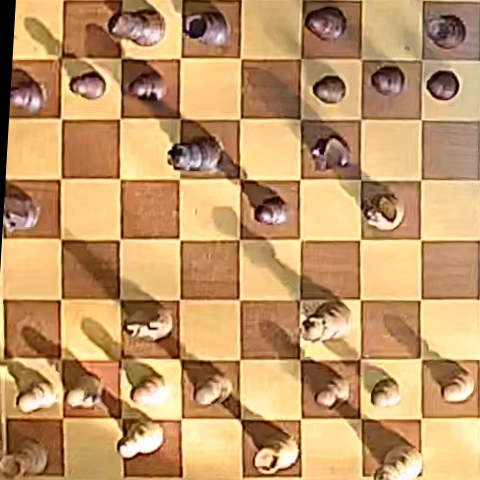black-bishop: (305, 6, 347, 41)
black-king: (108, 9, 165, 46)
black-knight: (4, 195, 40, 233), (311, 135, 350, 169)
black-pawn: (11, 81, 48, 114), (128, 71, 166, 101), (370, 65, 405, 96), (426, 70, 460, 100), (70, 72, 106, 100), (255, 197, 288, 225), (313, 76, 346, 103)
black-queen: (168, 138, 224, 172)
black-rook: (183, 10, 230, 46), (426, 13, 466, 49)
white-bishop: (117, 419, 164, 459)
white-king: (376, 444, 423, 480)
white-knight: (123, 305, 172, 341), (362, 192, 403, 230)
white-pawn: (17, 380, 57, 414), (66, 374, 104, 409), (130, 372, 167, 406), (196, 373, 233, 406), (442, 369, 476, 403), (316, 376, 351, 409), (371, 378, 401, 408)
white-queen: (303, 300, 351, 343)
white-rook: (1, 439, 48, 479), (255, 434, 299, 474)
